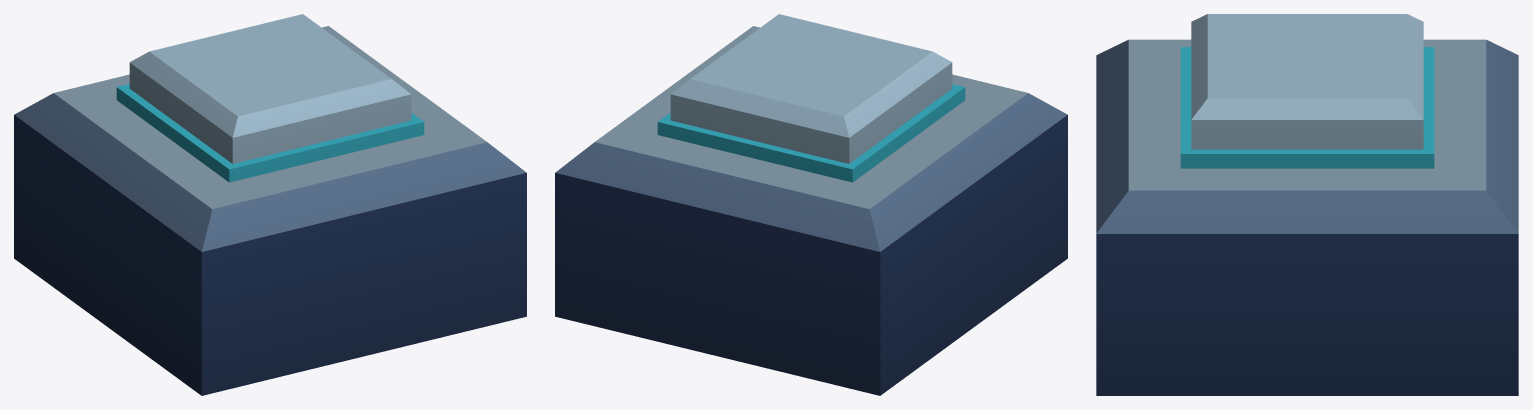
Rendered from lab.glb.
3 views of the same model, side by side, from view 1: azimuth 30°, elevation 25°; view 2: azimuth 150°, elevation 25°; view 3: azimuth 270°, elevation 25° (orthographic). The views are drawn at different scales.
Parts seen in each view (by area): view 1: lab; view 2: lab; view 3: lab.
Part boxes in pixels (box(x1,y1,x2,y2)): lab: box(14, 14, 526, 395); lab: box(555, 14, 1067, 395); lab: box(1096, 14, 1518, 395).
Size of the model in its own units: 0.26 by 0.17 by 0.26.
